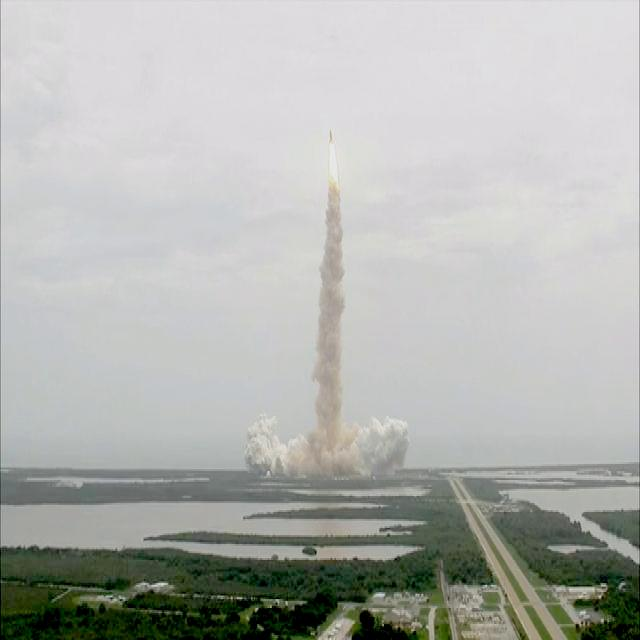fire: (328, 147, 343, 190)
smoke: (244, 418, 277, 479), (372, 416, 406, 474), (318, 392, 340, 480), (280, 438, 316, 478), (345, 428, 373, 479), (323, 252, 342, 322), (320, 330, 342, 385), (325, 196, 343, 247)
